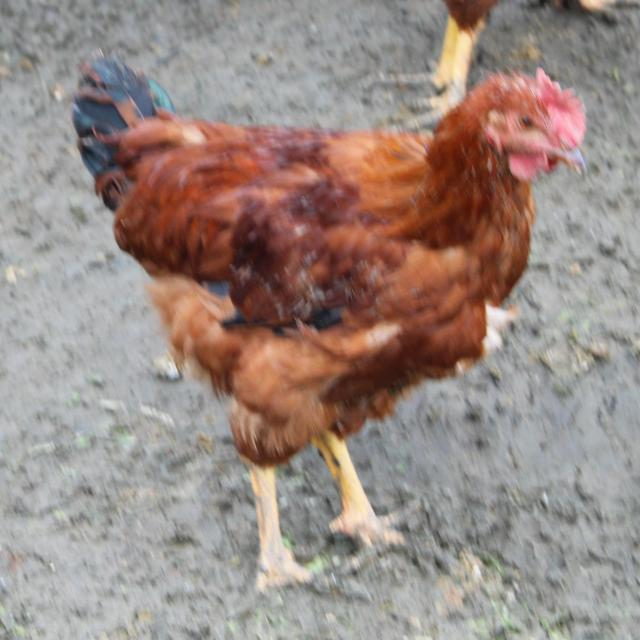cook: (74, 58, 585, 587)
